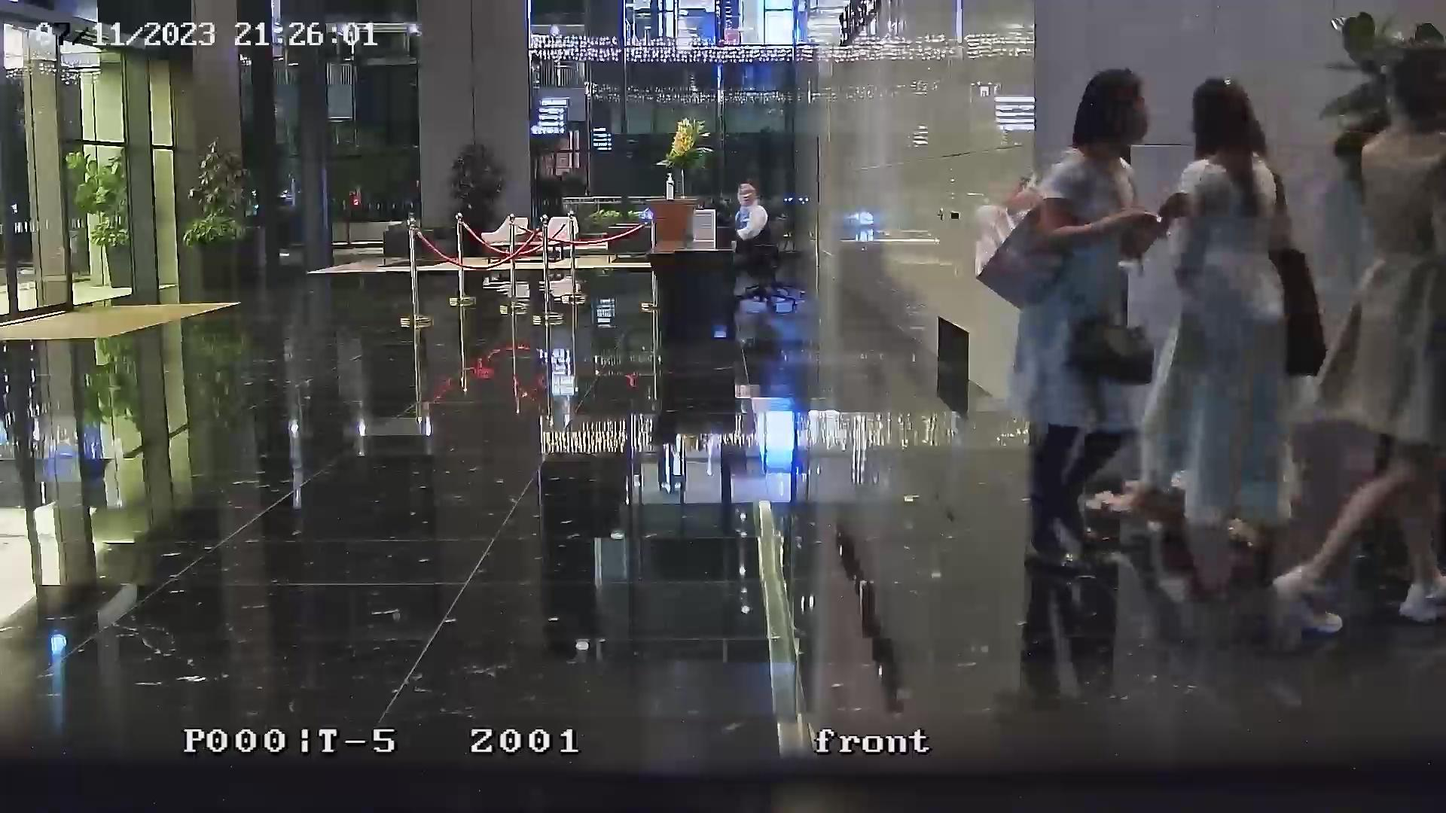person: (1273, 32, 1445, 631), (1154, 77, 1317, 600), (1006, 68, 1159, 574), (974, 176, 1018, 276), (733, 180, 770, 244)
